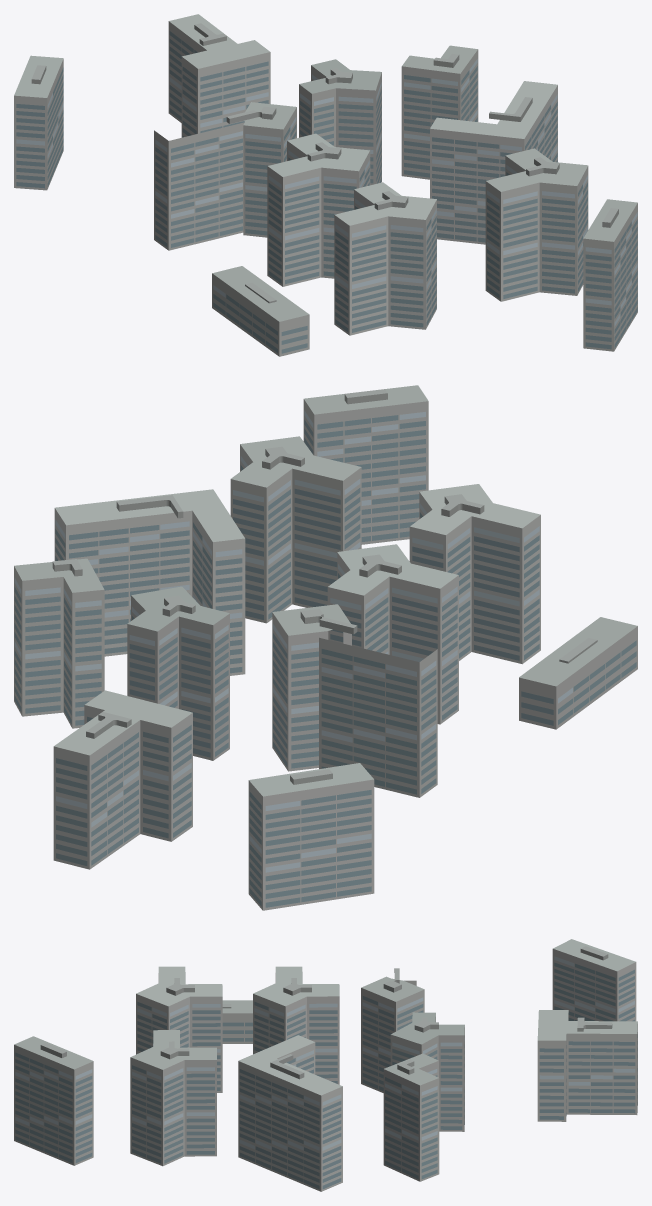
Rendered from apt-a13378102.glb.
The picture shows the model from 3 angles, top to bottom: view 1: azimuth 30°, elevation 25°; view 2: azimuth 150°, elevation 25°; view 3: azimuth 270°, elevation 25°; orthographic projection. The views are drawn at different scales.
Visible parts, largest first — view 1: apt-a13378102; view 2: apt-a13378102; view 3: apt-a13378102.
Boxes of the visible parts, x1,y1,x2,y2 form: apt-a13378102: (14,14,637,356); apt-a13378102: (14,385,637,910); apt-a13378102: (14,939,637,1191).
Size of the model in its own units: 161 by 44 by 246.
